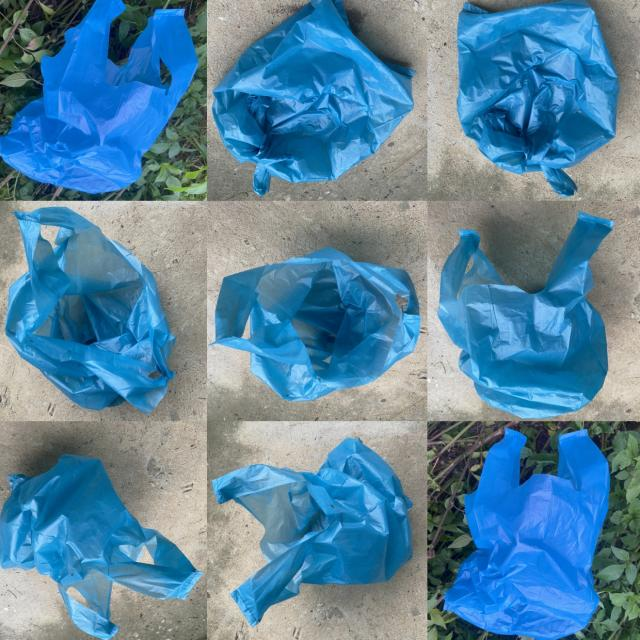plastik: (213, 0, 415, 195), (0, 0, 197, 193), (0, 454, 202, 640), (213, 439, 413, 626), (437, 213, 614, 418), (6, 207, 175, 414), (445, 430, 609, 640), (457, 0, 619, 196), (214, 248, 420, 401)
